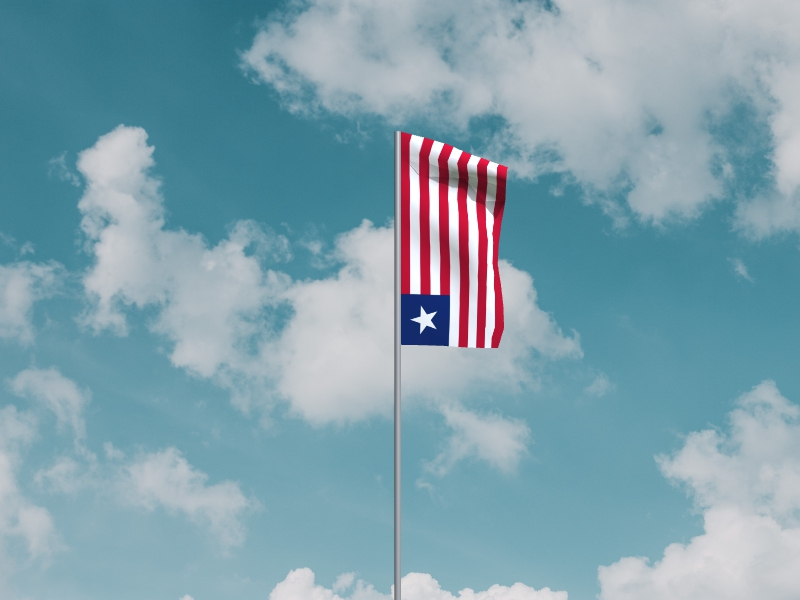lr: (402, 132, 509, 350)
